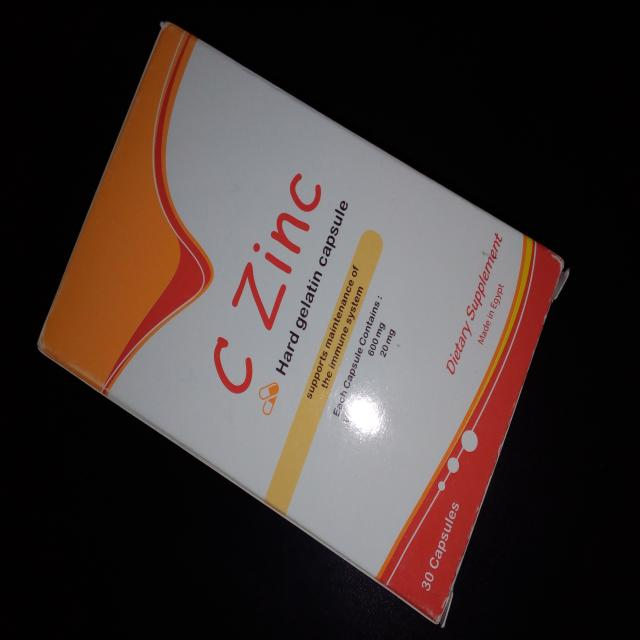Medicine: (32, 18, 572, 621)
